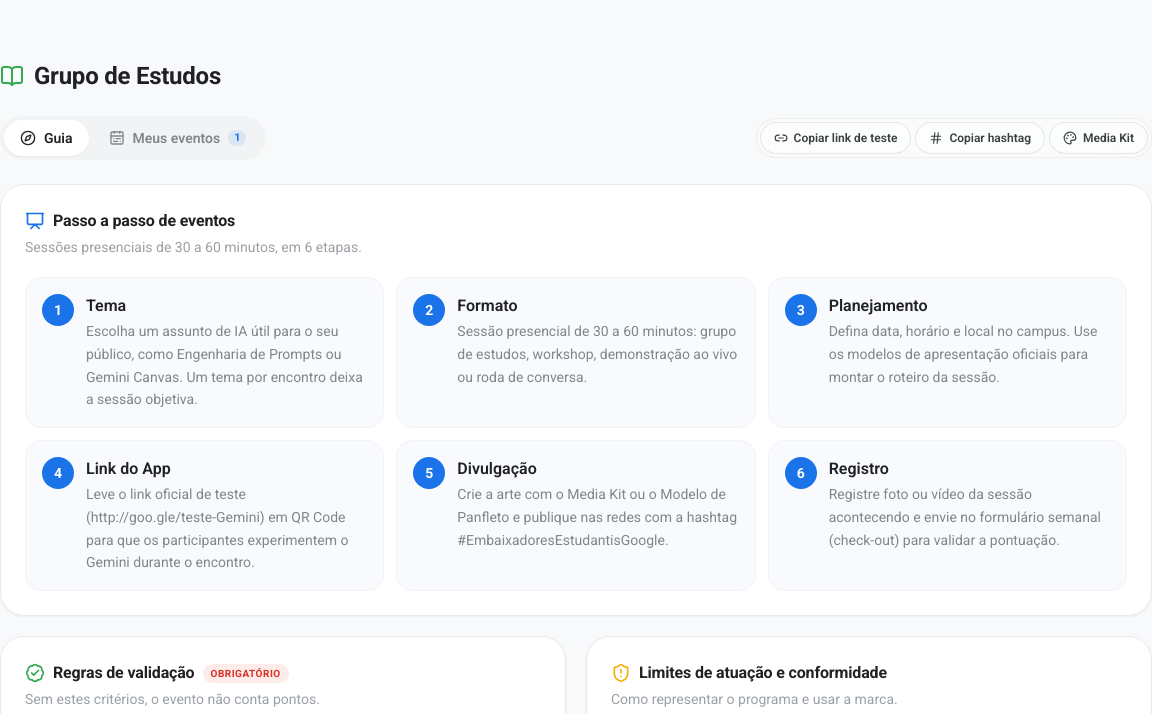
Test: StudyGuideModule › ticks checklist items and keeps earlier ticks when clicking quickly
This screenshot has width=1152, height=714.
Click the tab "Meus eventos 1".
click(178, 138)  # box [92, 120, 262, 156]
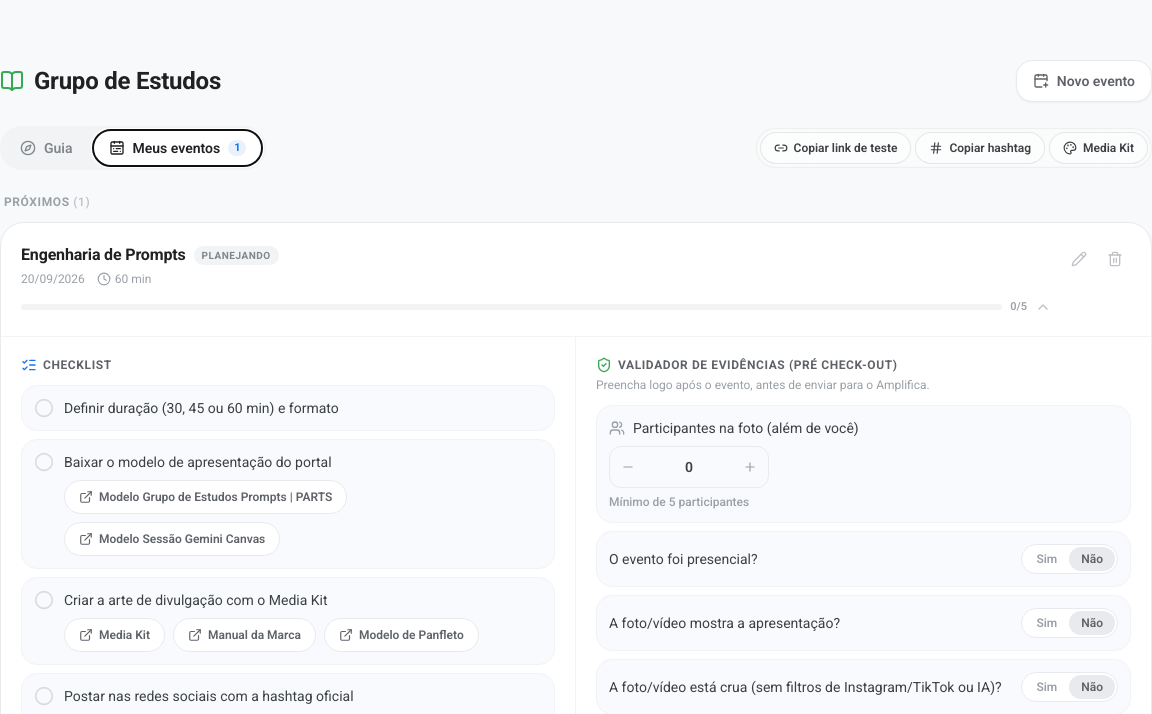
Click the checkbox labelled "Definir duração (30, 45 ou 60 min) e formato".
click(288, 408)  # box [34, 398, 542, 418]
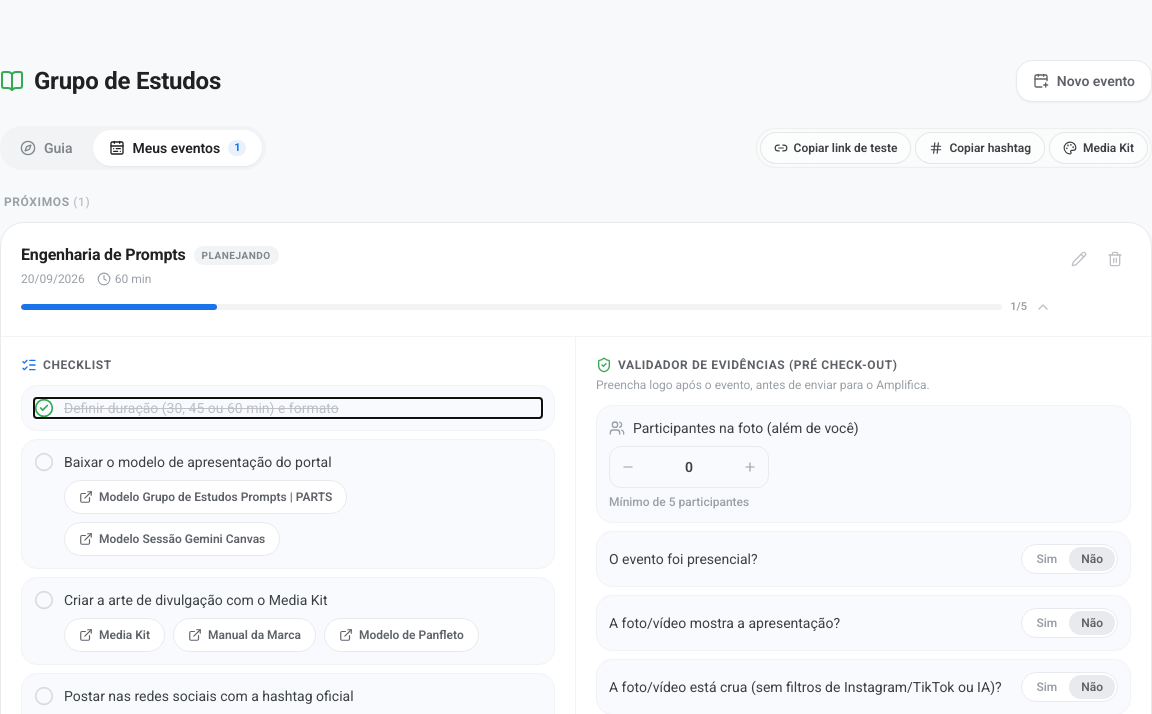
Click the checkbox labelled "Postar nas redes sociais com a hashtag oficial".
click(288, 696)  # box [34, 686, 542, 706]
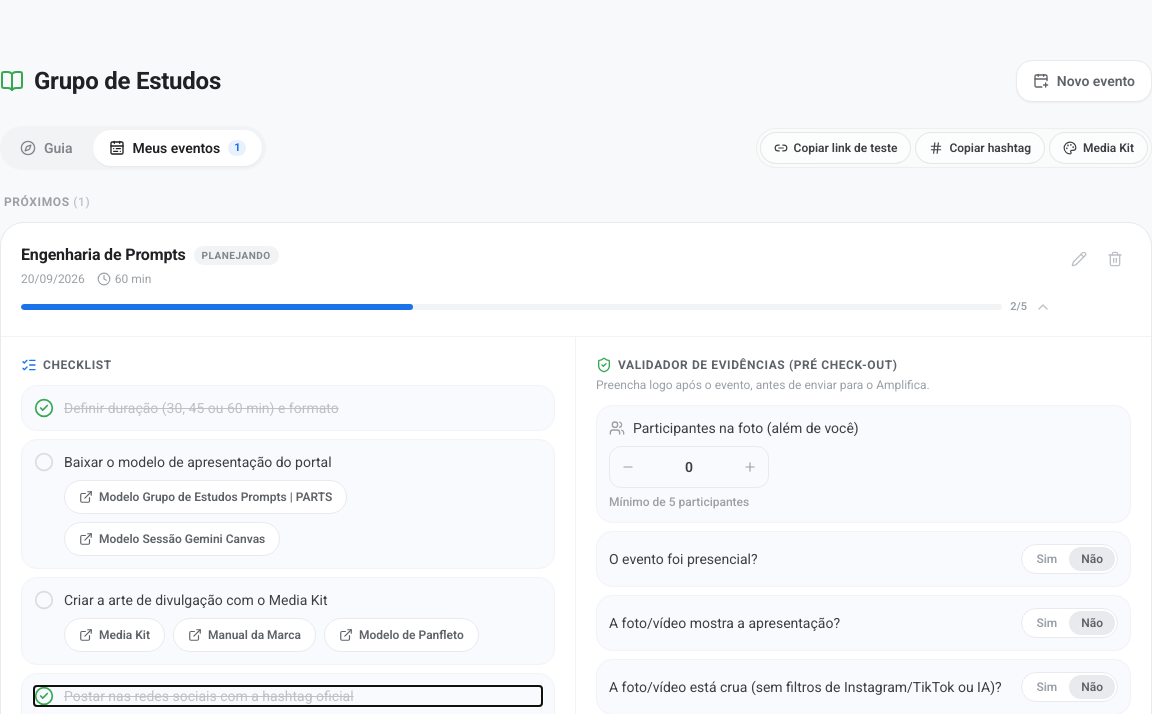
Expected: the text "2/5" is shown, [1010, 299, 1027, 316]
